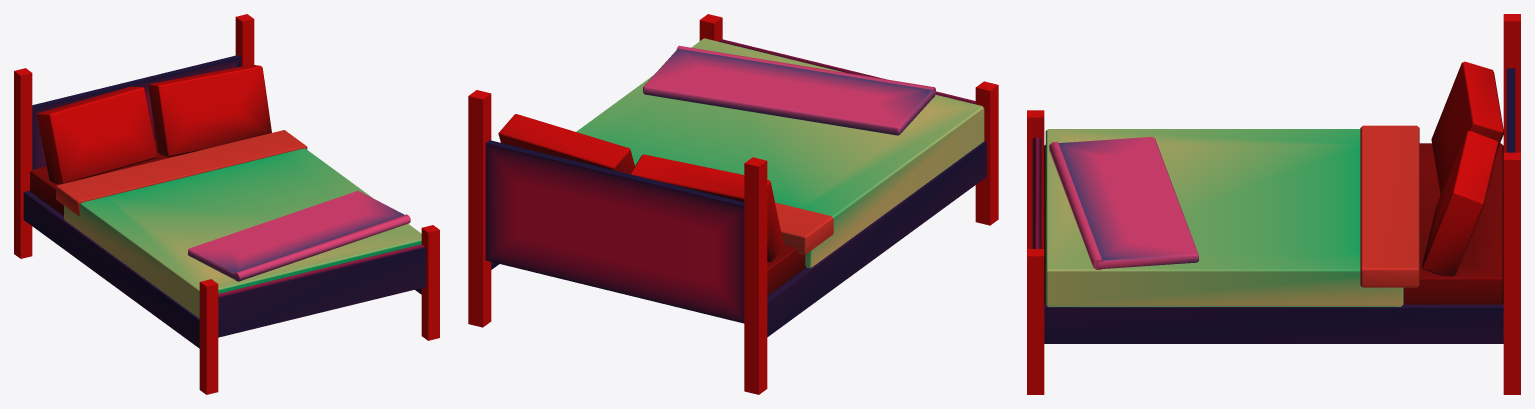
Rendered from CI_Bedroom_Bed_Double_LOD1.glb.
The picture shows the model from 3 angles, left to right: view 1: azimuth 30°, elevation 25°; view 2: azimuth 150°, elevation 25°; view 3: azimuth 270°, elevation 25°; orthographic projection. The views are drawn at different scales.
Parts seen in each view (by area): view 1: CI_Bedroom_Bed_Double_LOD1; view 2: CI_Bedroom_Bed_Double_LOD1; view 3: CI_Bedroom_Bed_Double_LOD1.
Part boxes in pixels (x1,y1,x2,y2): CI_Bedroom_Bed_Double_LOD1: (14,14,439,394); CI_Bedroom_Bed_Double_LOD1: (468,14,998,394); CI_Bedroom_Bed_Double_LOD1: (1027,14,1520,394).
Size of the model in its own units: 1.4 by 1.05 by 2.
